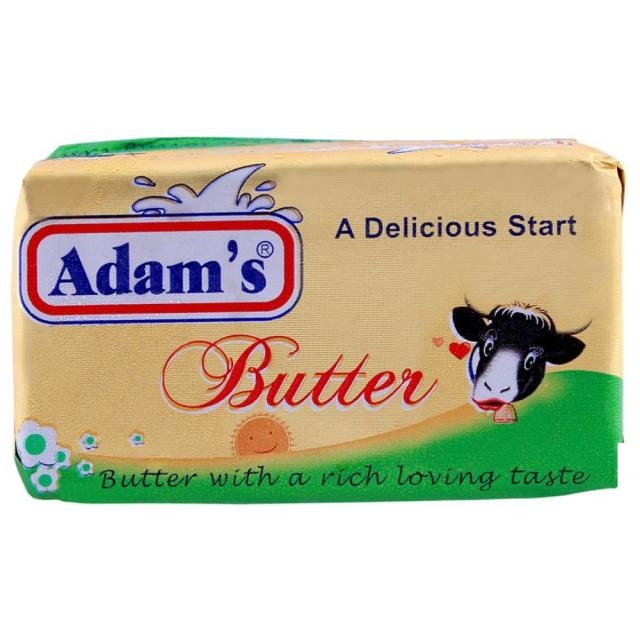butter: (12, 136, 624, 502)
